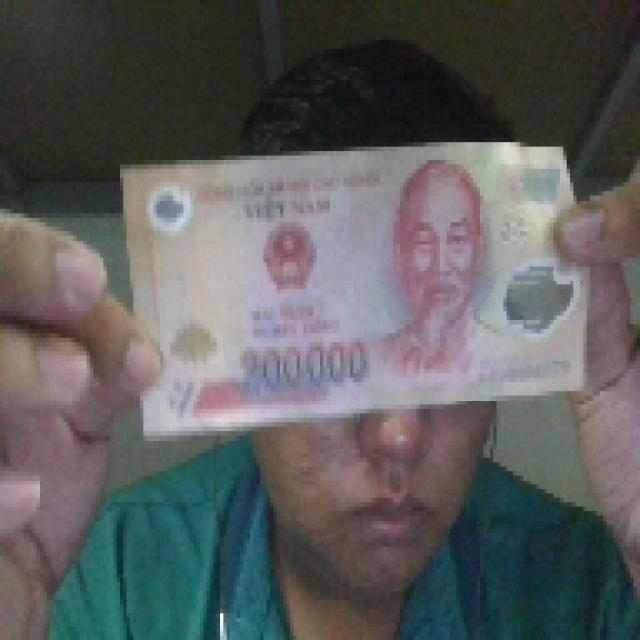200 000 VND: (117, 138, 593, 440)
